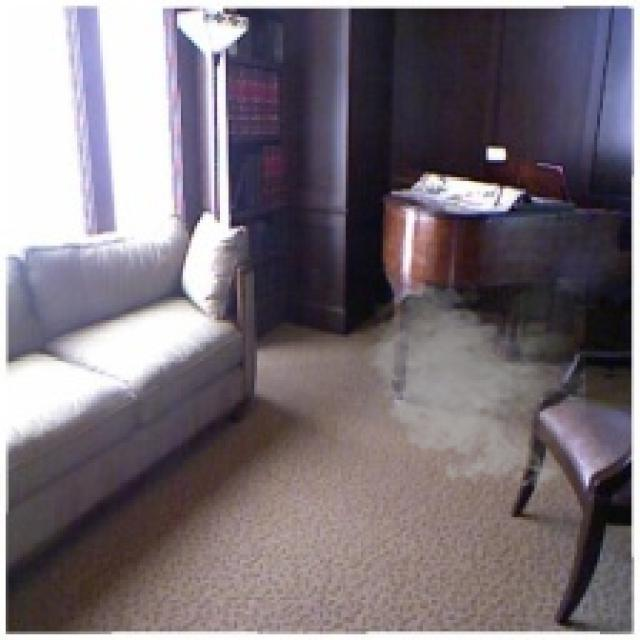Smoke: (357, 277, 586, 494)
